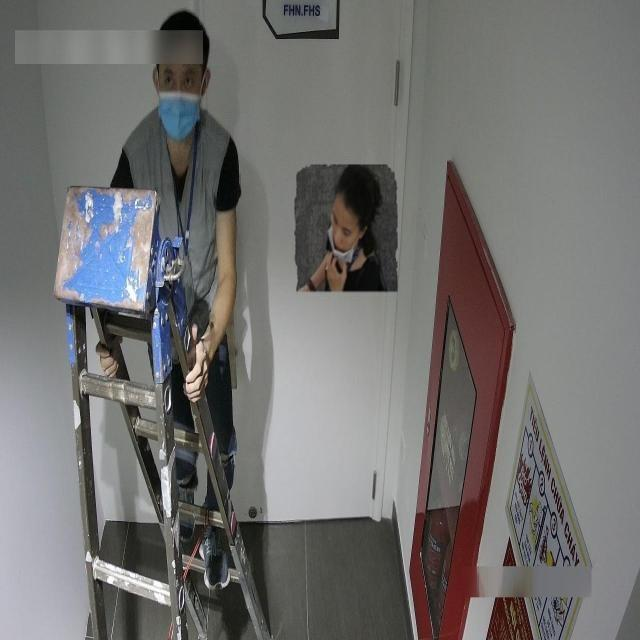hairnet: (326, 188, 359, 263)
